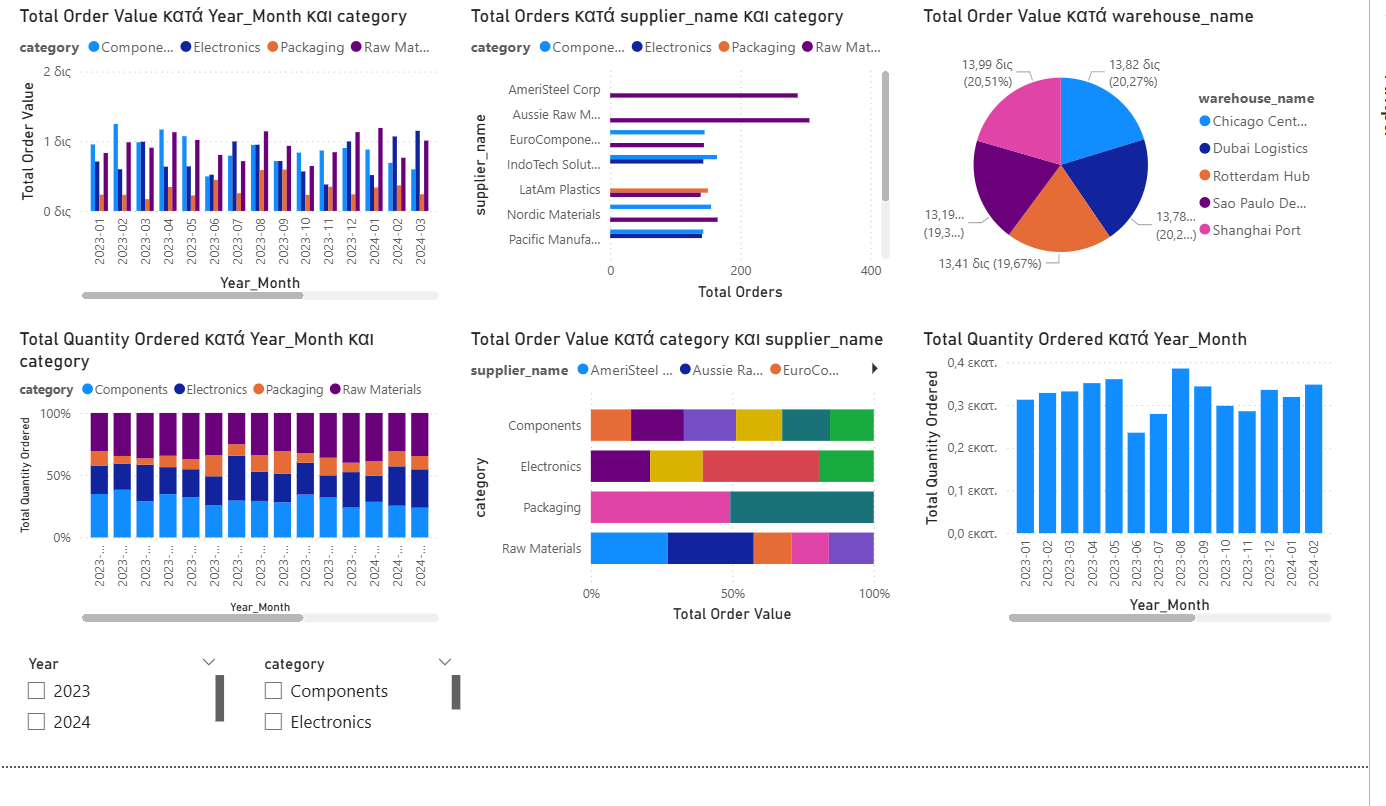

This screenshot's page, from the dashboard's own definition file:
{"tool":"powerbi","page":{"name":"Visual Showcase","canvas":[1280,720],"ordinal":6},"visuals":[{"type":"clusteredColumnChart","fields":{"Category":["Calendar.Year_Month"],"Series":["DimProduct.category"],"Y":["_Measures.Total Order Value"]},"box":[20,10,400,280],"z":1000},{"type":"clusteredBarChart","fields":{"Category":["DimSupplier.supplier_name"],"Series":["DimProduct.category"],"Y":["_Measures.Total Orders"]},"box":[440,10,400,280],"z":1000},{"type":"pieChart","fields":{"Category":["DimWarehouse.warehouse_name"],"Y":["_Measures.Total Order Value"]},"box":[860,10,390,280],"z":1000},{"type":"hundredPercentStackedColumnChart","fields":{"Category":["Calendar.Year_Month"],"Series":["DimProduct.category"],"Y":["_Measures.Total Quantity Ordered"]},"box":[20,310,400,280],"z":1000},{"type":"hundredPercentStackedBarChart","fields":{"Category":["DimProduct.category"],"Series":["DimSupplier.supplier_name"],"Y":["_Measures.Total Order Value"]},"box":[440,310,400,280],"z":1000},{"type":"clusteredColumnChart","fields":{"Category":["Calendar.Year_Month"],"Y":["_Measures.Total Quantity Ordered"]},"box":[860,310,390,280],"z":1000},{"type":"slicer","fields":{"Values":["Calendar.Year"]},"box":[20,610,200,90],"z":1000},{"type":"slicer","fields":{"Values":["DimProduct.category"]},"box":[240,610,200,90],"z":1000}]}

Visuals, with their boxes on the page's 1280x720 design canvas (x1, y1, x2, y2). These are canvas units, not pixel positions in the 1386x806 screenshot, which may show the page scaled, cropped or inside an application window:
clusteredColumnChart - Calendar.Year_Month x DimProduct.category: bbox=(20, 10, 420, 290)
clusteredBarChart - DimSupplier.supplier_name x DimProduct.category: bbox=(440, 10, 840, 290)
pieChart - DimWarehouse.warehouse_name x _Measures.Total Order Value: bbox=(860, 10, 1250, 290)
hundredPercentStackedColumnChart - Calendar.Year_Month x DimProduct.category: bbox=(20, 310, 420, 590)
hundredPercentStackedBarChart - DimProduct.category x DimSupplier.supplier_name: bbox=(440, 310, 840, 590)
clusteredColumnChart - Calendar.Year_Month x _Measures.Total Quantity Ordered: bbox=(860, 310, 1250, 590)
slicer - Calendar.Year: bbox=(20, 610, 220, 700)
slicer - DimProduct.category: bbox=(240, 610, 440, 700)
